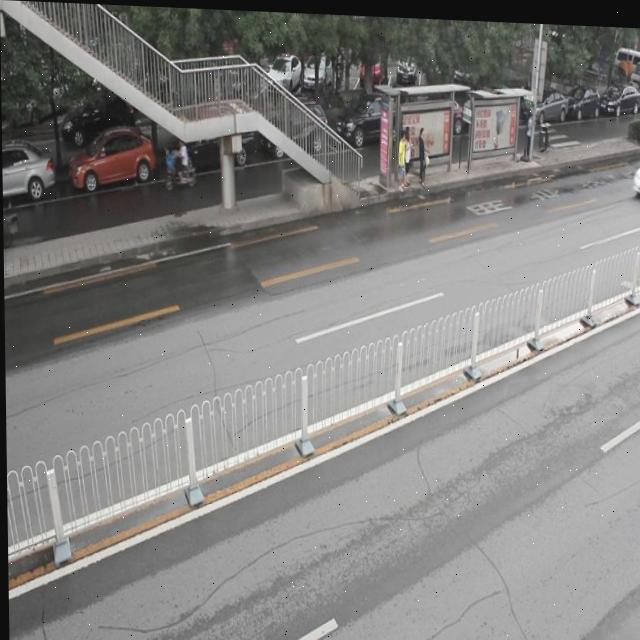car: (69, 124, 157, 193), (165, 116, 252, 177), (261, 99, 330, 161), (335, 89, 402, 147), (2, 143, 55, 205)
